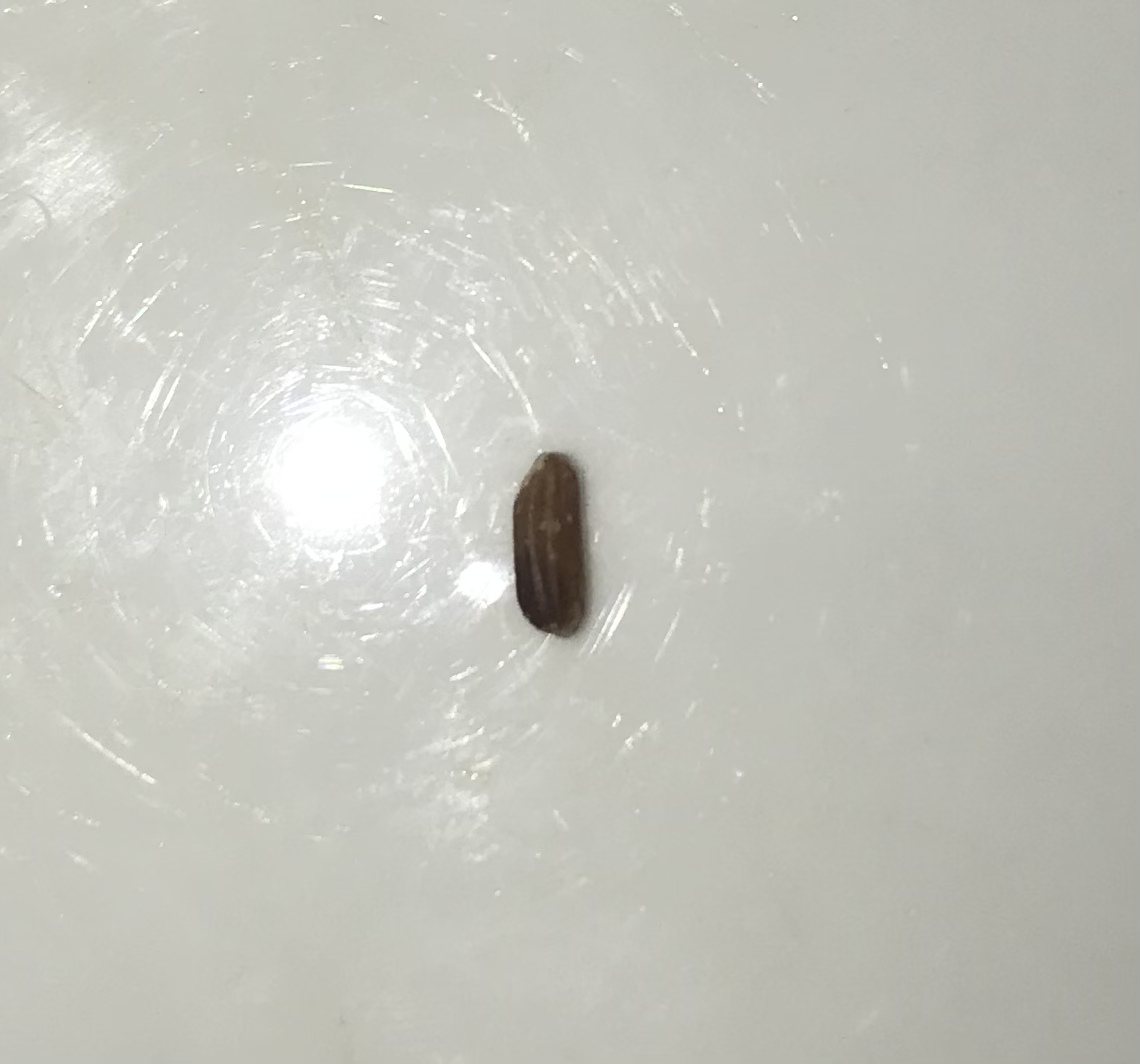Gao Lut Do: (503, 430, 619, 643)
